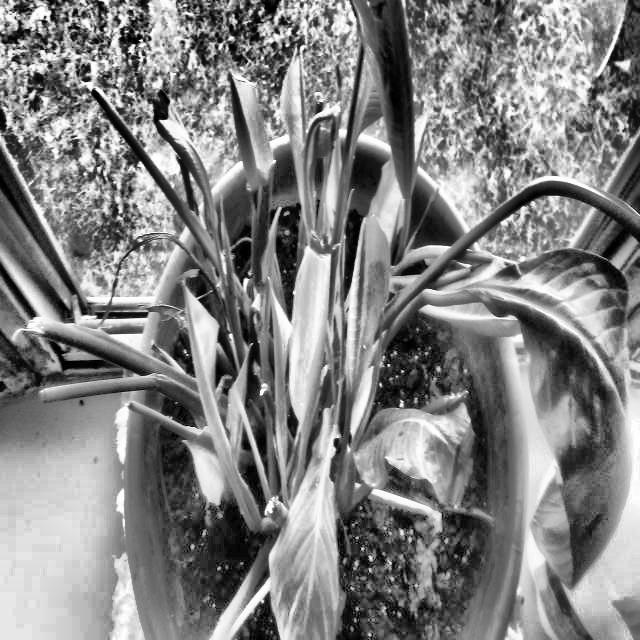plants: (81, 43, 557, 639)
